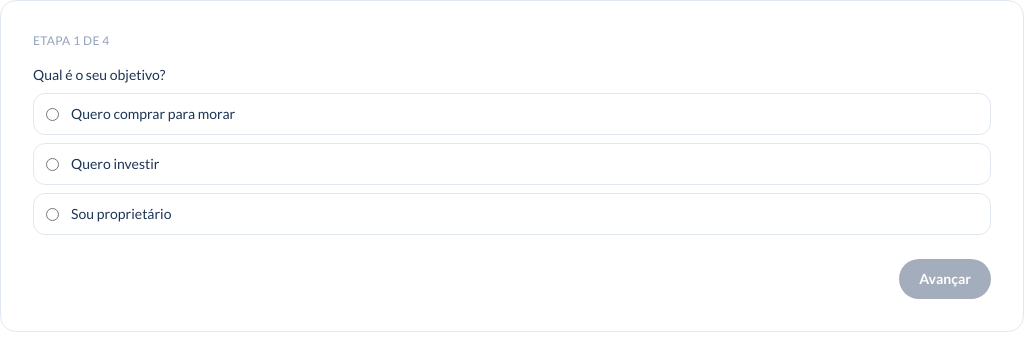
LeadForm › blocks advancing until an intent is selected
Check: the button "Avançar" is disabled, box [899,259,991,299]
Click the radio button labelled "Quero comprar para morar". click: (52, 114)
box: [46,108,59,120]
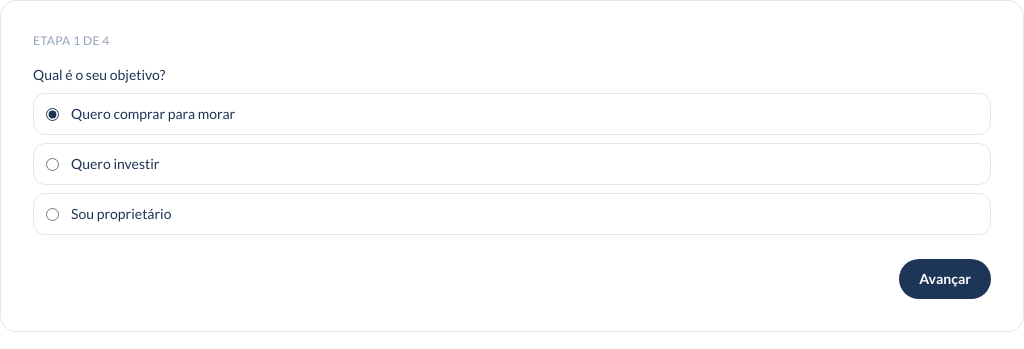
Check: the button "Avançar" is enabled, box [899,259,991,299]
